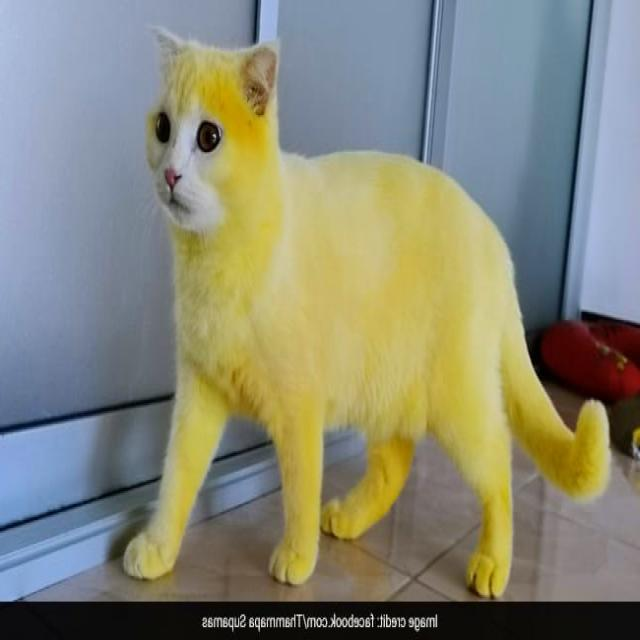cat: (124, 29, 610, 595)
